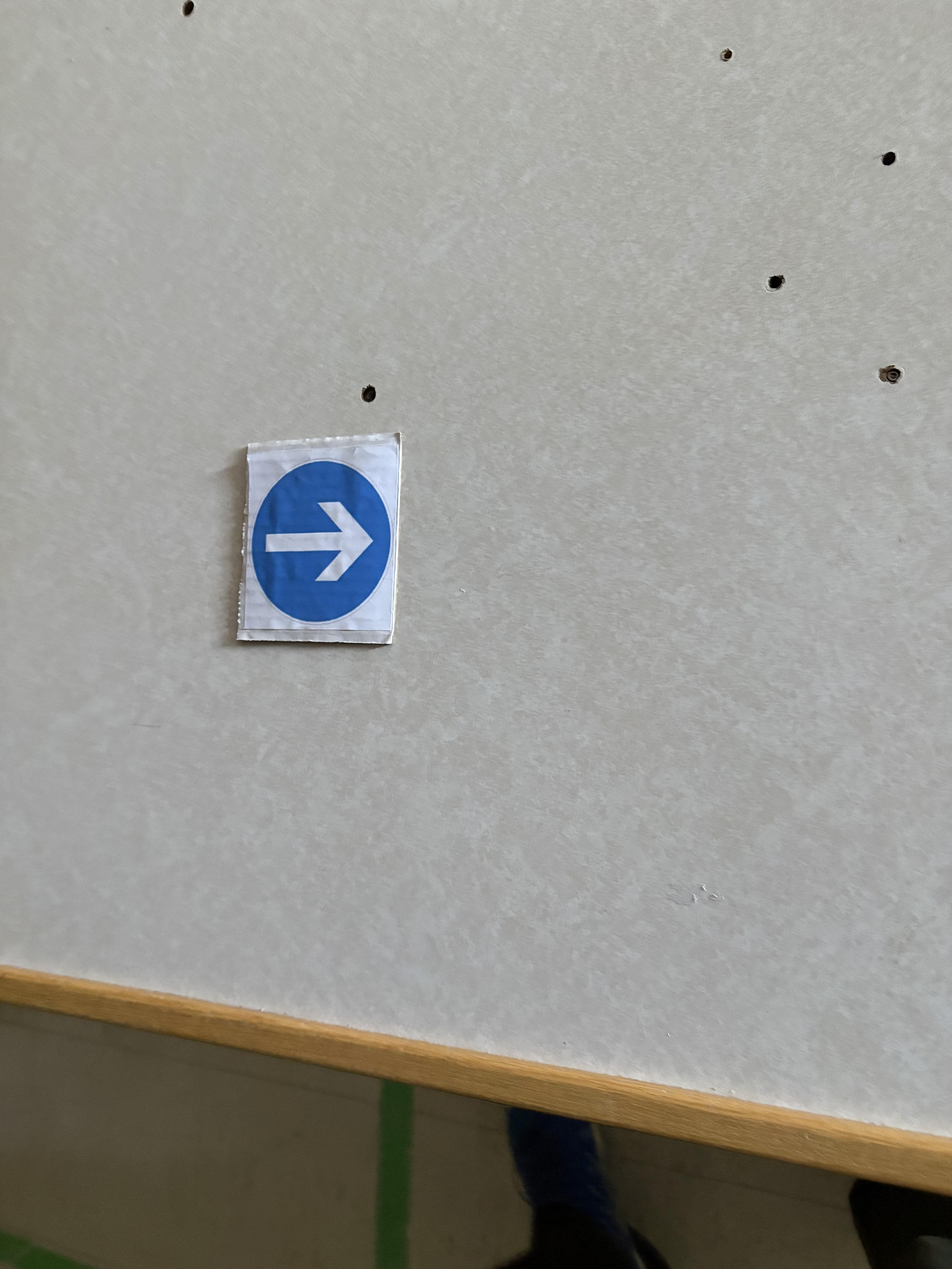Proceed Right: (235, 430, 399, 654)
